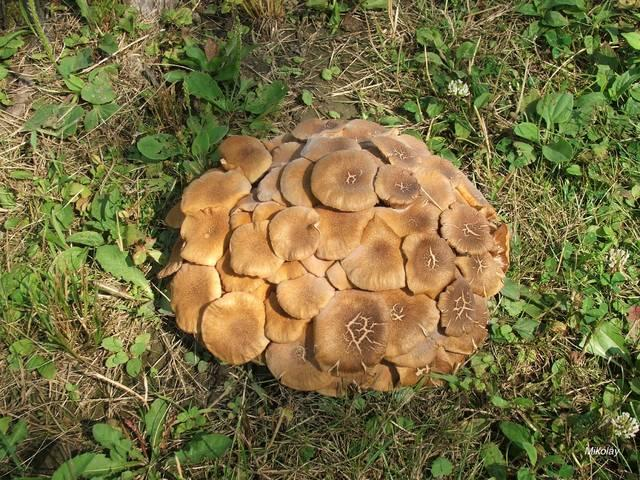Edible Mushroom: (157, 115, 511, 397)
